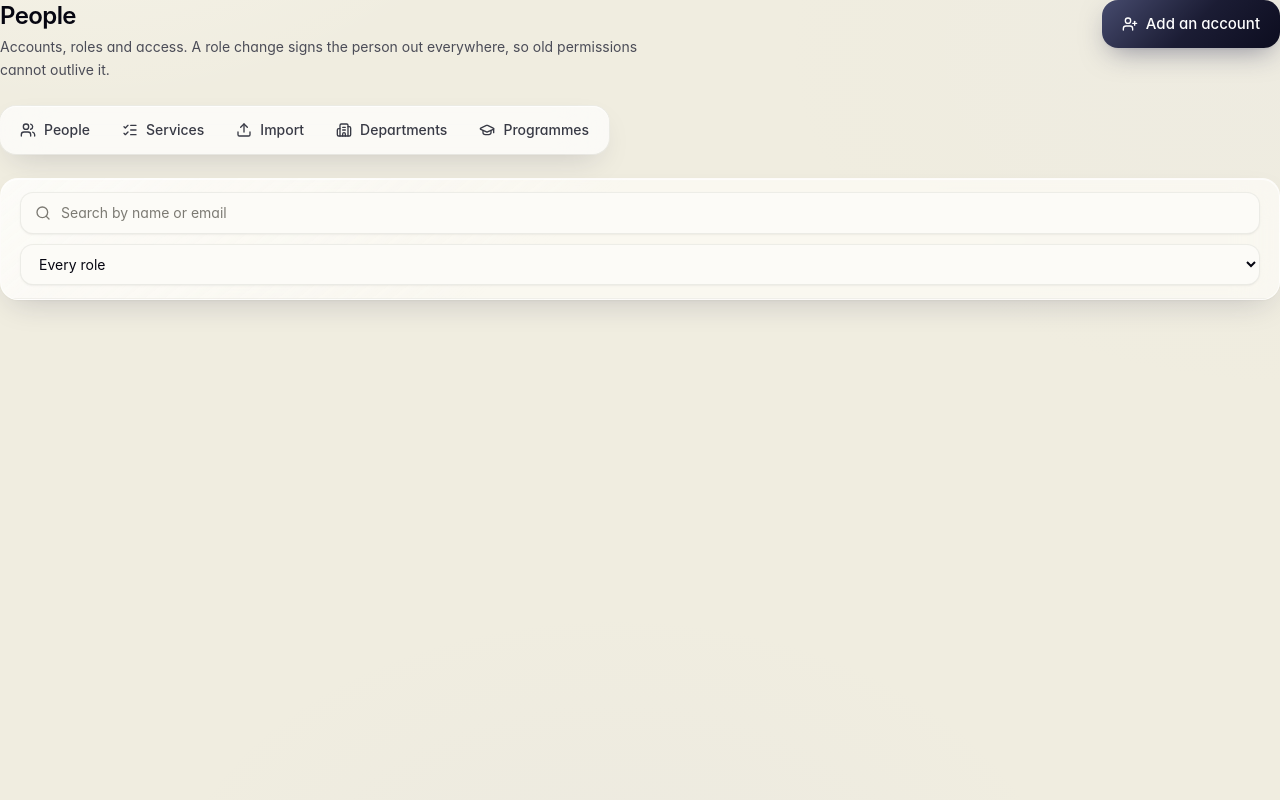
Scenario: creating an account › says the temporary password is shown only once
Click the button "Add an account" at (1191, 24), box [1102, 0, 1279, 48]
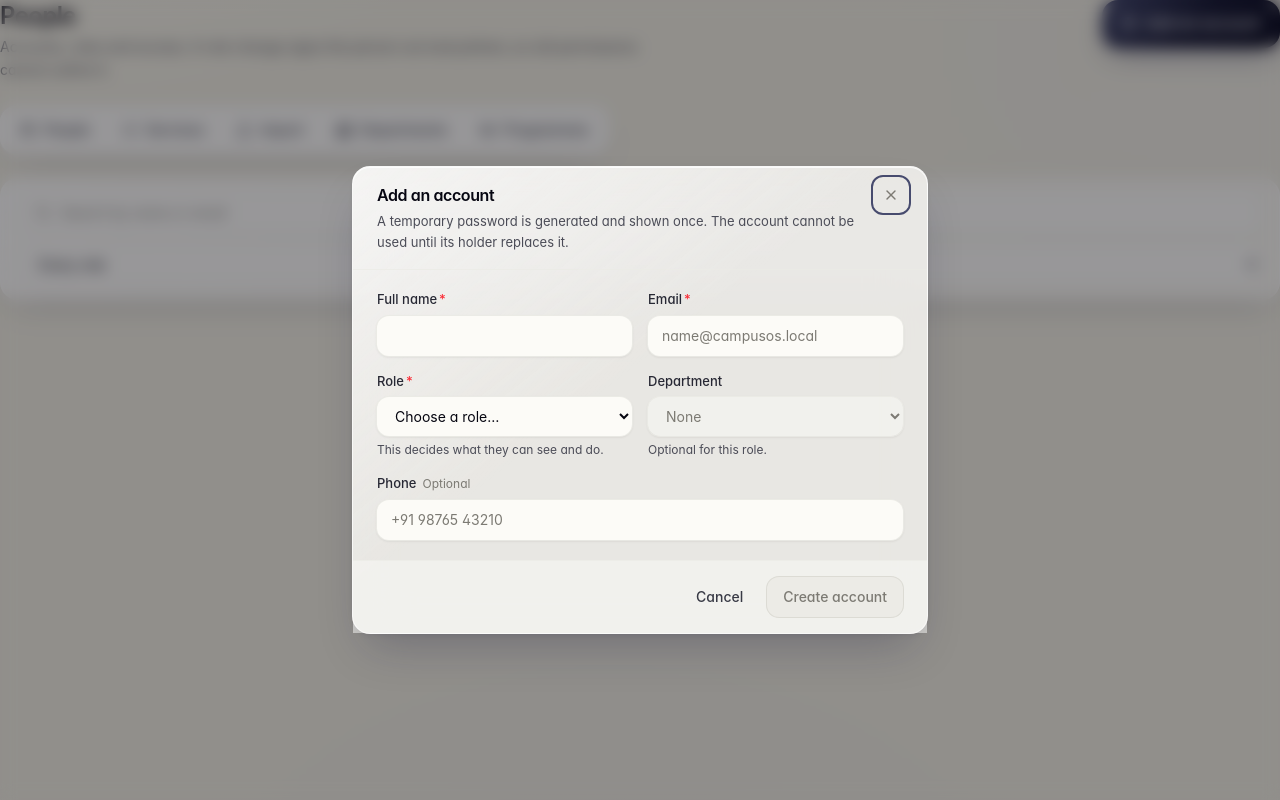
Type "New Person" into the field labelled "Full name*" at (504, 336), box [377, 316, 632, 356]
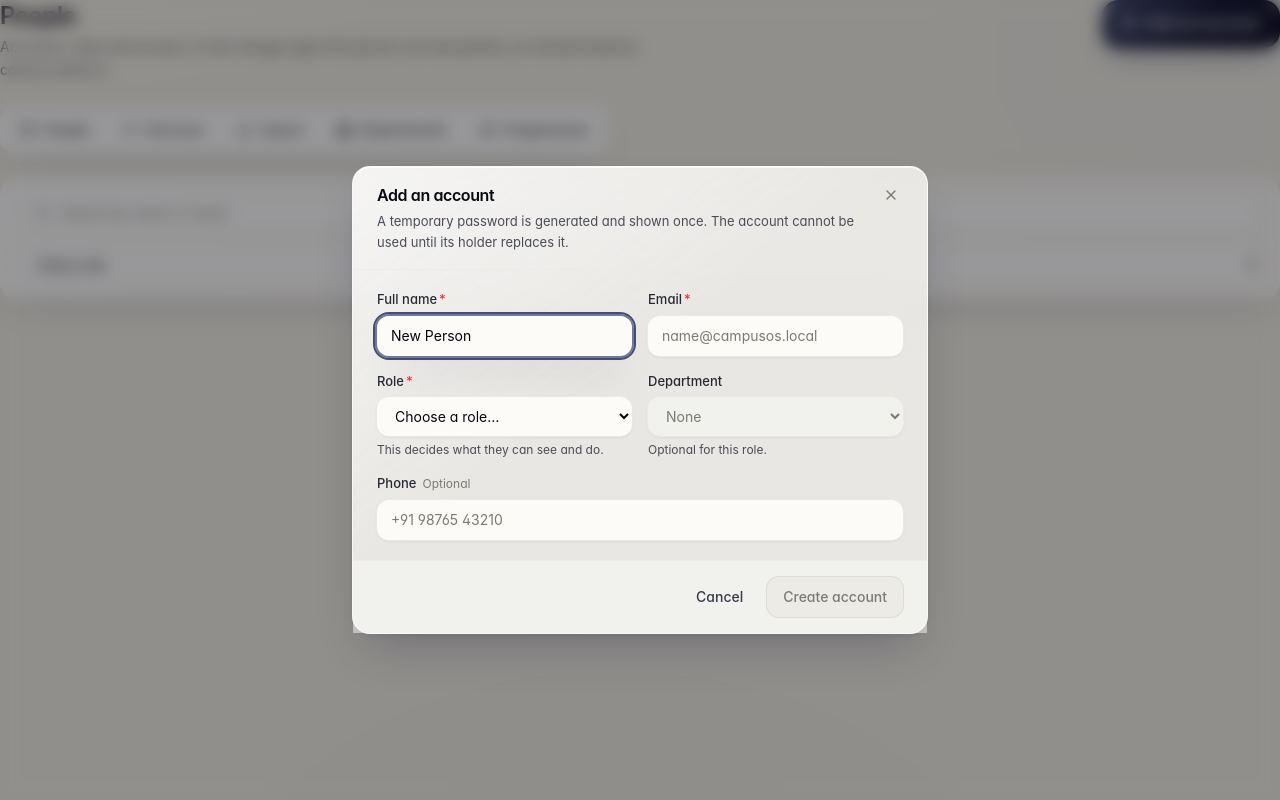
Type "new.person@campusos.local" into the field labelled "Email*" at (776, 336), box [648, 316, 903, 356]
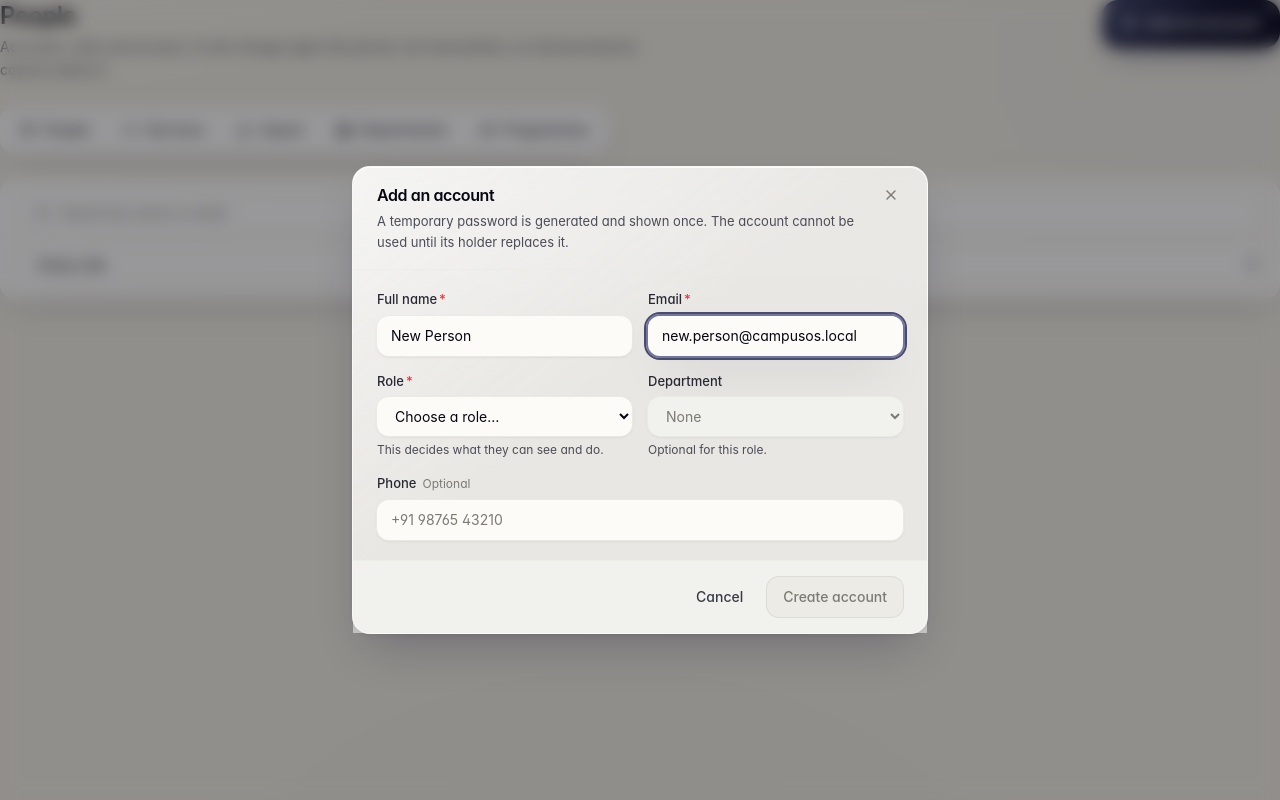
Select "Library admin" in the dropdown labelled "Role*" at (504, 417), box [377, 397, 632, 436]
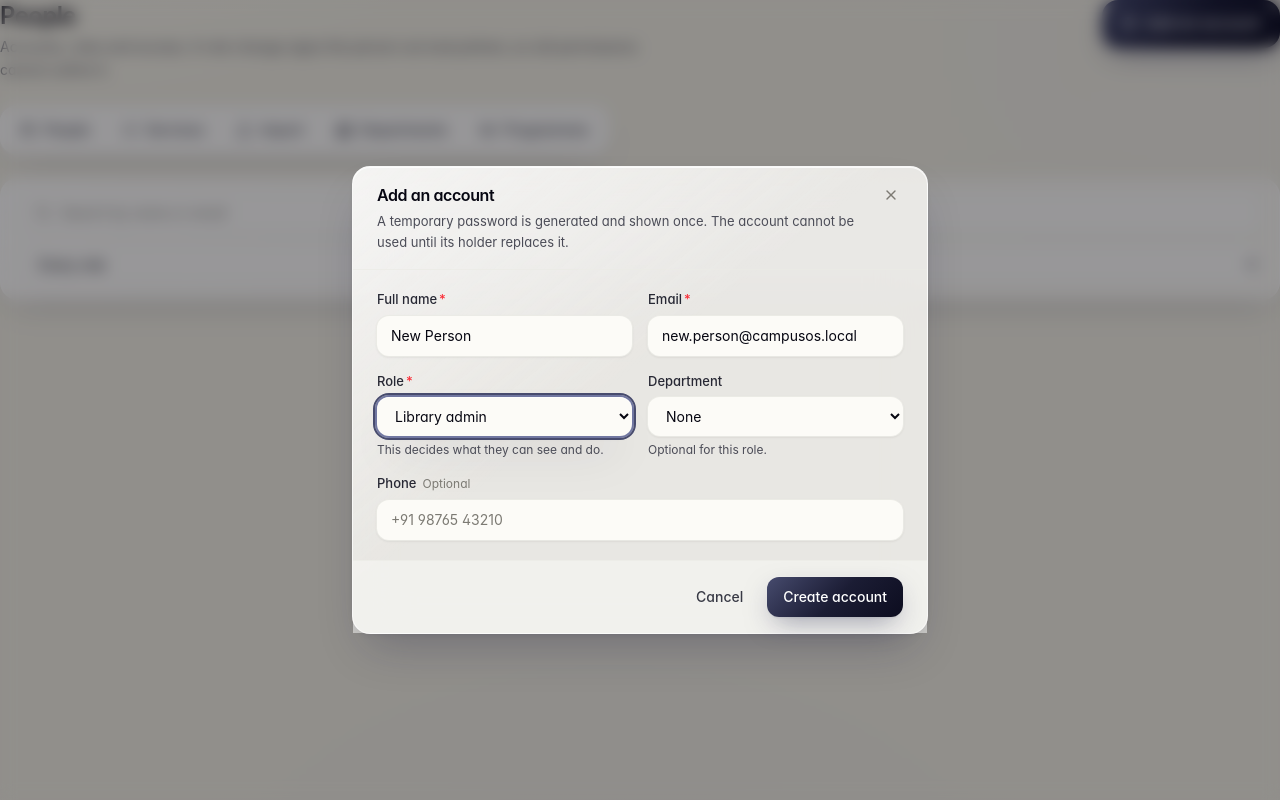
Click the button "Create account" at (835, 597), box [767, 577, 903, 617]
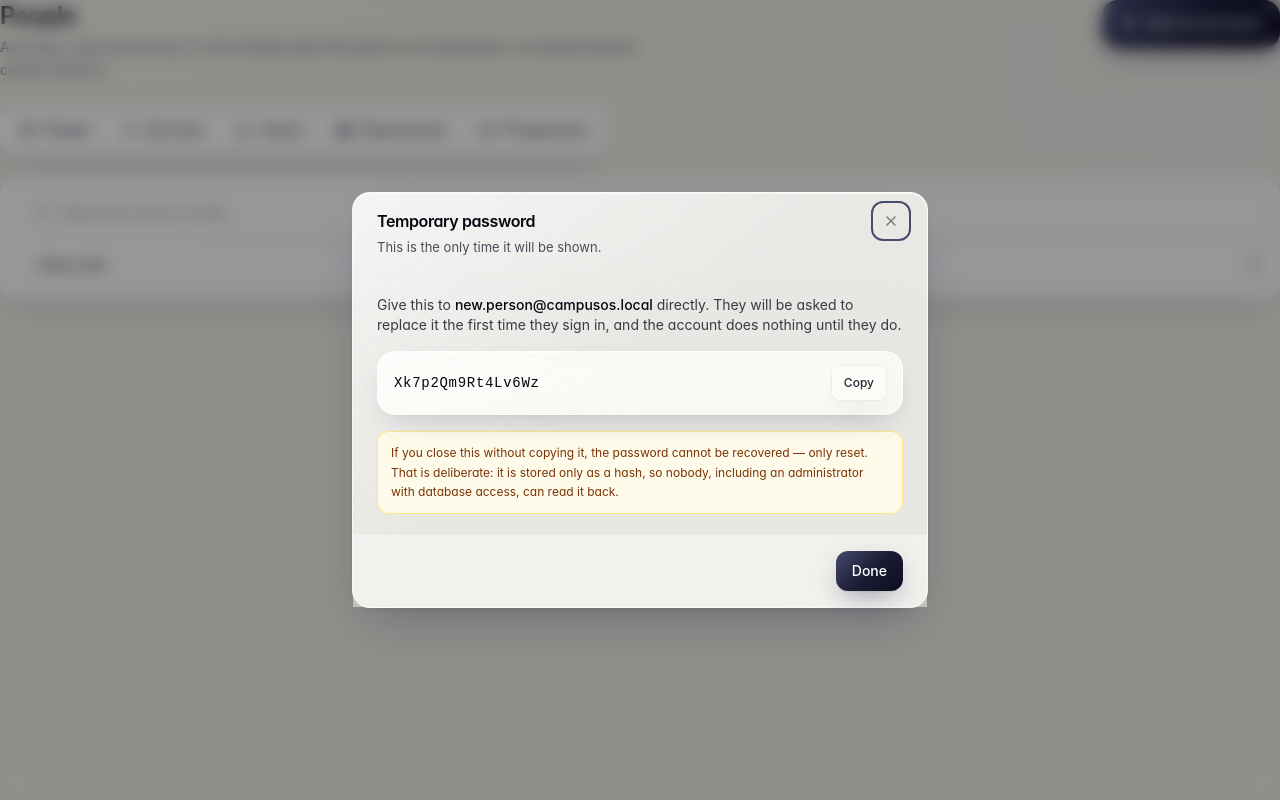
Now the text "Xk7p2Qm9Rt4Lv6Wz" is shown, box [394, 373, 540, 393]
Now the text "This is the only time it will be shown." is shown, box [377, 237, 601, 258]
Now the text "cannot be recovered" is shown, box [391, 445, 868, 499]
